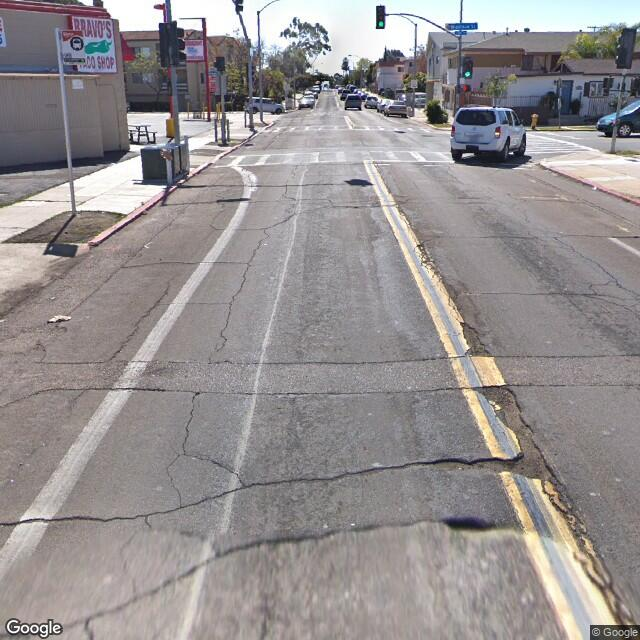road line: (481, 364, 640, 615), (370, 170, 466, 342)
